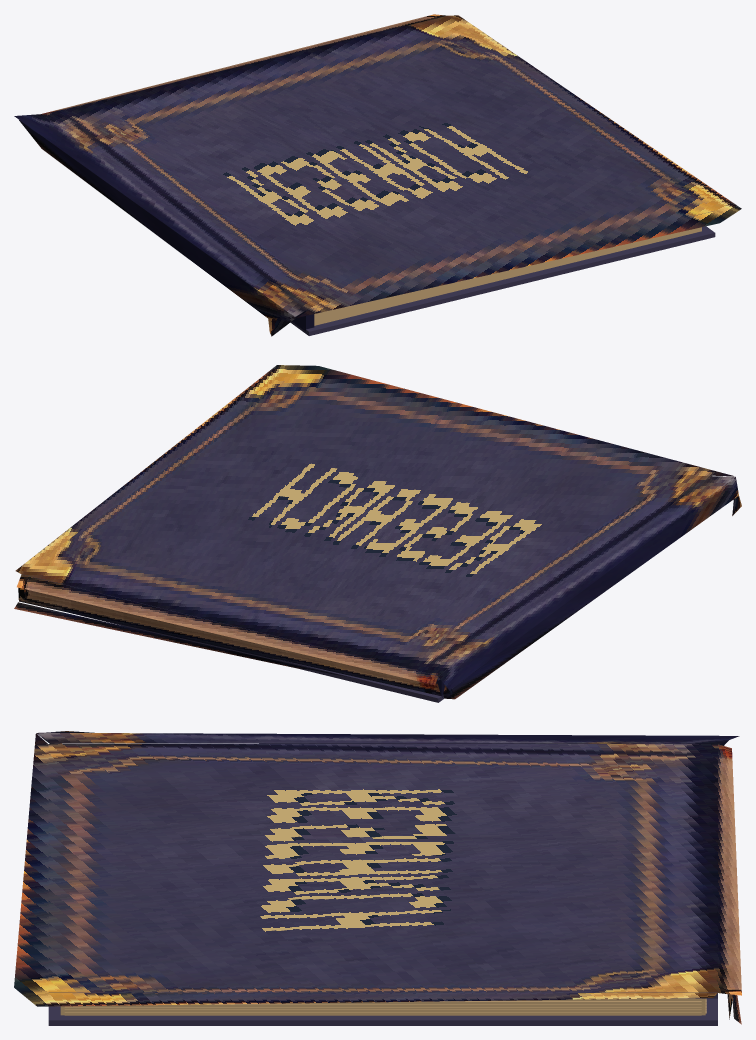
The model's file is journal.glb.
3 renders of one model, top to bottom at view 1: azimuth 30°, elevation 25°; view 2: azimuth 150°, elevation 25°; view 3: azimuth 270°, elevation 25°, orthographic. The views are drawn at different scales.
Parts seen in each view (by area): view 1: JournalNativeCover, JournalNativeSpine, JournalNativeSpineSide, JournalNativeCoverBackRim, JournalNativeCoverRightRim, JournalBackBoard, JournalPageBlock, JournalNativeFrontBoardEdge; view 2: JournalNativeCover, JournalNativeSpine, JournalNativeFrontBoardEdge, JournalNativePageEdge, JournalNativeSpineSide, JournalNativeCoverBackRim, JournalNativeCoverRightRim, JournalNativeBackBoardEdge, JournalBackBoard; view 3: JournalNativeCover, JournalPageBlock, JournalBackBoard, JournalNativeSpine, JournalNativeCoverBackRim, JournalNativeCoverRightRim, JournalNativeFrontBoardEdge, JournalPaperEdge2, JournalFrontBoard, JournalPaperEdge1, JournalPaperEdge3, JournalPaperEdge0 (+3 smaller).
Part boxes in pixels (bbox=[...]): JournalNativeCover: bbox=[43, 15, 714, 309]; JournalNativeSpine: bbox=[14, 114, 307, 316]; JournalNativeSpineSide: bbox=[19, 120, 295, 318]; JournalNativeCoverBackRim: bbox=[297, 209, 740, 317]; JournalNativeCoverRightRim: bbox=[449, 15, 741, 210]; JournalBackBoard: bbox=[290, 226, 715, 335]; JournalPageBlock: bbox=[314, 227, 701, 325]; JournalNativeFrontBoardEdge: bbox=[42, 14, 447, 114]; JournalNativeCover: bbox=[22, 374, 711, 675]; JournalNativeSpine: bbox=[438, 476, 734, 690]; JournalNativeFrontBoardEdge: bbox=[17, 574, 438, 685]; JournalNativePageEdge: bbox=[18, 587, 440, 695]; JournalNativeSpineSide: bbox=[452, 476, 738, 698]; JournalNativeCoverBackRim: bbox=[277, 365, 734, 476]; JournalNativeCoverRightRim: bbox=[15, 365, 294, 573]; JournalNativeBackBoardEdge: bbox=[14, 602, 355, 678]; JournalBackBoard: bbox=[73, 613, 467, 702]; JournalNativeCover: bbox=[48, 744, 717, 992]; JournalPageBlock: bbox=[60, 998, 705, 1015]; JournalBackBoard: bbox=[48, 998, 717, 1025]; JournalNativeSpine: bbox=[38, 732, 739, 743]; JournalNativeCoverBackRim: bbox=[14, 733, 48, 1006]; JournalNativeCoverRightRim: bbox=[37, 993, 717, 1006]; JournalNativeFrontBoardEdge: bbox=[718, 744, 741, 995]; JournalPaperEdge2: bbox=[65, 1009, 701, 1010]; JournalFrontBoard: bbox=[49, 992, 717, 998]; JournalPaperEdge1: bbox=[64, 1012, 701, 1012]; JournalPaperEdge3: bbox=[64, 1007, 701, 1007]; JournalPaperEdge0: bbox=[65, 1015, 701, 1015].
Bounding box in the file's own units: 0.3326 × 0.0182 × 0.3611.
6 materials, 1 textured.
